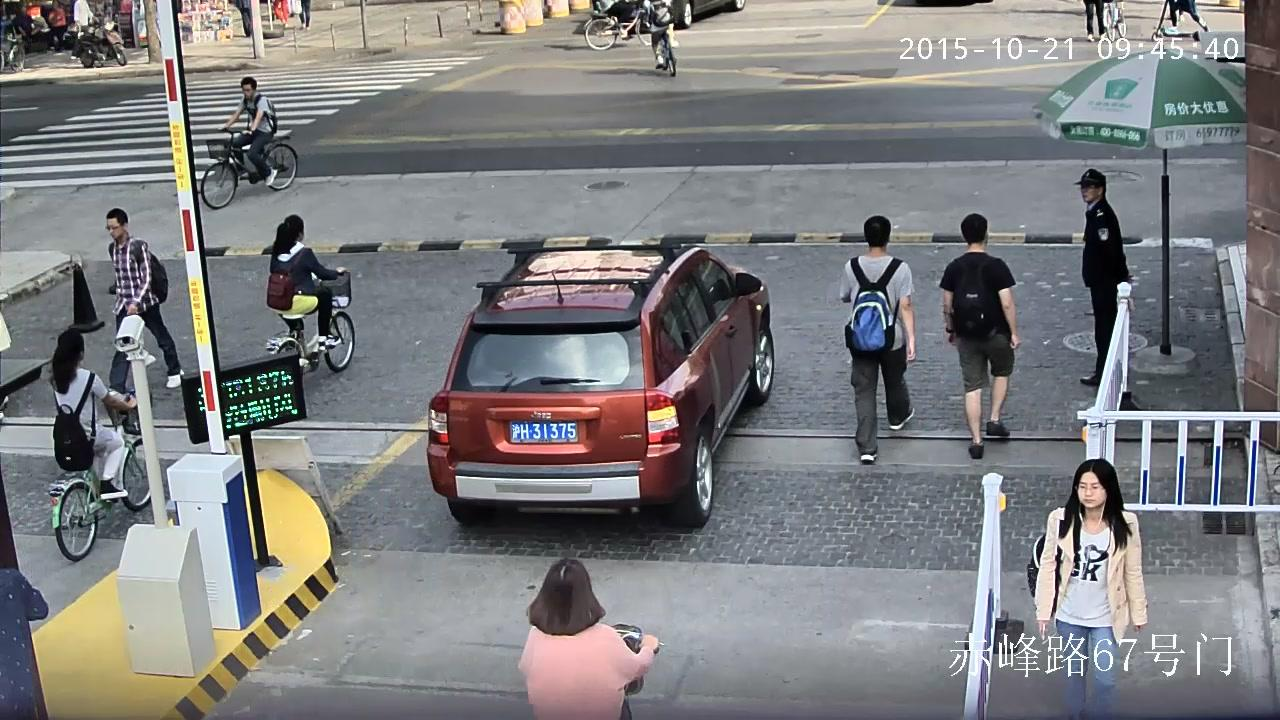person: (1027, 457, 1146, 720), (47, 328, 153, 561), (517, 556, 662, 720), (518, 557, 658, 720), (938, 213, 1021, 459), (839, 215, 916, 464), (49, 329, 138, 501), (104, 207, 184, 395), (264, 213, 354, 374), (1073, 168, 1134, 386), (201, 76, 298, 209), (265, 214, 347, 353), (223, 76, 277, 186), (583, 0, 661, 49), (645, 0, 678, 76), (1151, 0, 1208, 41), (646, 0, 678, 68), (1084, 0, 1127, 42), (70, 0, 98, 63), (594, 0, 634, 39), (1167, 0, 1208, 33), (45, 0, 66, 53), (1084, 0, 1110, 42), (235, 0, 252, 38), (297, 0, 310, 29)
